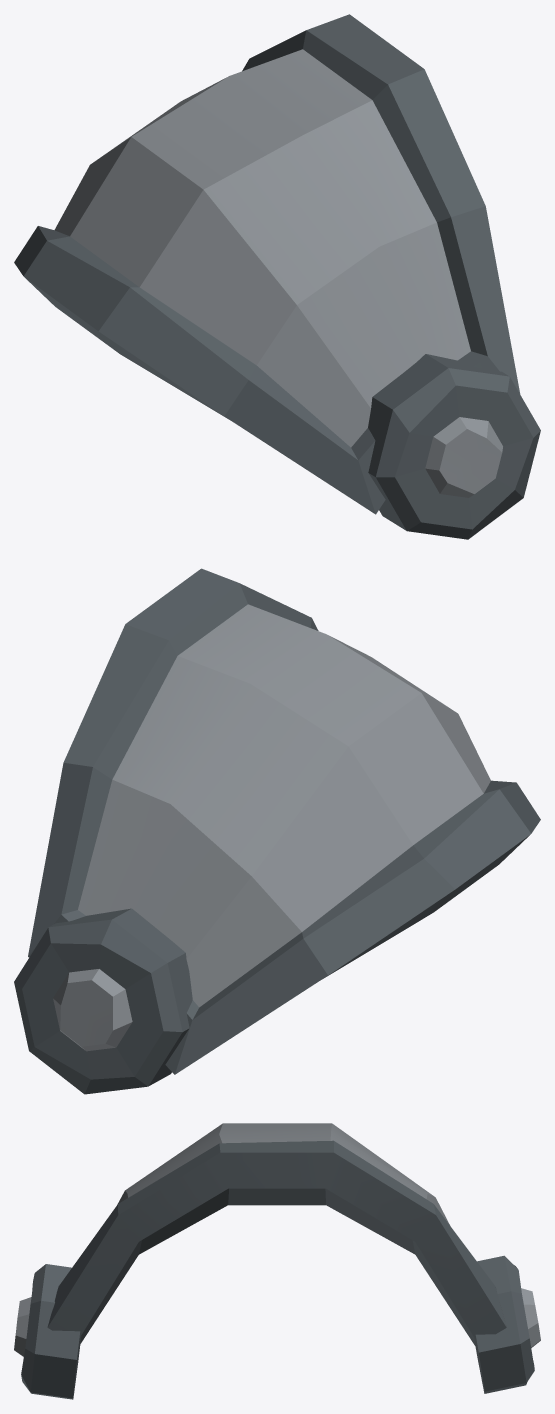
File: Chr_ShoulderAttachRight_21_Static.fbx
The picture shows the model from 3 angles, top to bottom: view 1: azimuth 30°, elevation 25°; view 2: azimuth 150°, elevation 25°; view 3: azimuth 270°, elevation 25°; orthographic projection. The views are drawn at different scales.
Parts seen in each view (by area): view 1: Chr_ShoulderAttachRight_21_Static; view 2: Chr_ShoulderAttachRight_21_Static; view 3: Chr_ShoulderAttachRight_21_Static.
Boxes of the visible parts, x1,y1,x2,y2 form: Chr_ShoulderAttachRight_21_Static: (14,14,540,539); Chr_ShoulderAttachRight_21_Static: (14,568,540,1094); Chr_ShoulderAttachRight_21_Static: (14,1123,540,1399).
Size of the model in its own units: 0.2071 by 0.2193 by 0.3796.
